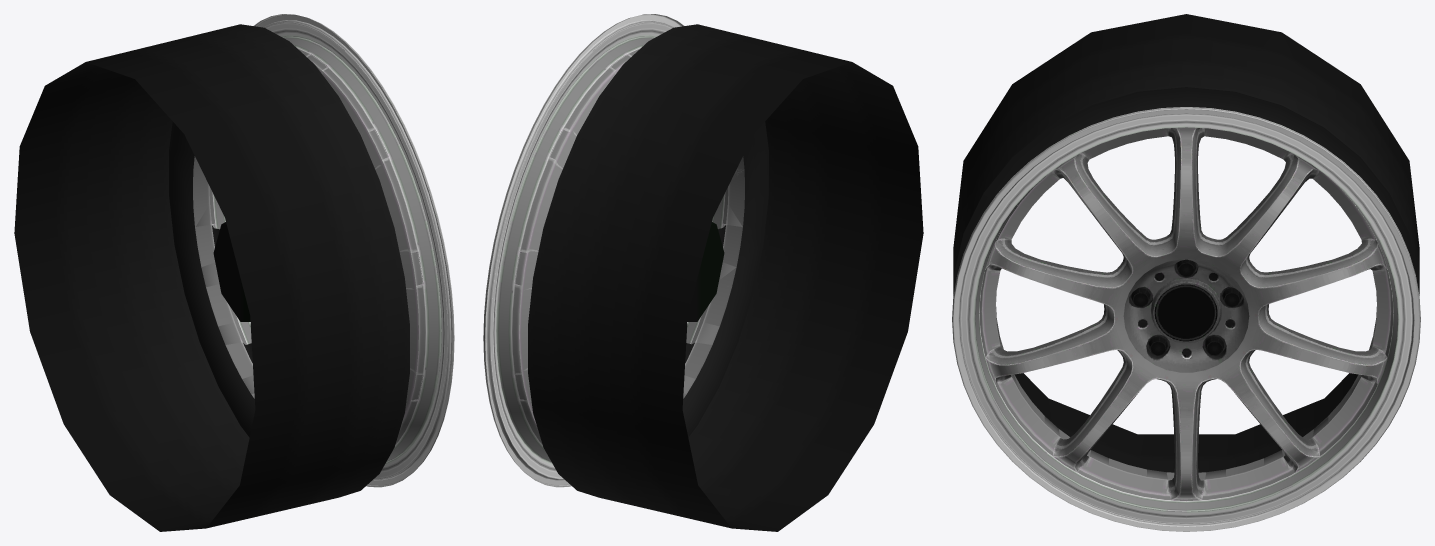
Rendered from wheel68.fbx.
3 renders of one model, left to right at view 1: azimuth 30°, elevation 25°; view 2: azimuth 150°, elevation 25°; view 3: azimuth 270°, elevation 25°, orthographic. The views are drawn at different scales.
Visible parts, largest first — view 1: rot_tarmac_3_wheel_wheel_inner_rim_, wheel_rim, rot_tarmac_3_wheel_wheel_rim_; view 2: rot_tarmac_3_wheel_wheel_inner_rim_, wheel_rim, rot_tarmac_3_wheel_wheel_rim_; view 3: rot_tarmac_3_wheel_wheel_rim_, rot_tarmac_3_wheel_wheel_inner_rim_, wheel_rim, rot_tarmac_3_wheel_wheel_chrome_rim_.
Boxes of the visible parts, x1=… form: rot_tarmac_3_wheel_wheel_inner_rim_: x1=14, y1=24, x2=409, y2=531; wheel_rim: x1=193, y1=14, x2=454, y2=487; rot_tarmac_3_wheel_wheel_rim_: x1=196, y1=14, x2=453, y2=484; rot_tarmac_3_wheel_wheel_inner_rim_: x1=528, y1=24, x2=923, y2=531; wheel_rim: x1=483, y1=14, x2=744, y2=487; rot_tarmac_3_wheel_wheel_rim_: x1=484, y1=15, x2=743, y2=487; rot_tarmac_3_wheel_wheel_rim_: x1=953, y1=107, x2=1419, y2=530; rot_tarmac_3_wheel_wheel_inner_rim_: x1=953, y1=14, x2=1419, y2=472; wheel_rim: x1=952, y1=108, x2=1420, y2=531; rot_tarmac_3_wheel_wheel_chrome_rim_: x1=1131, y1=259, x2=1241, y2=356.
Size of the model in its own units: 0.2287 by 0.48 by 0.48.
1 material, 1 textured.
